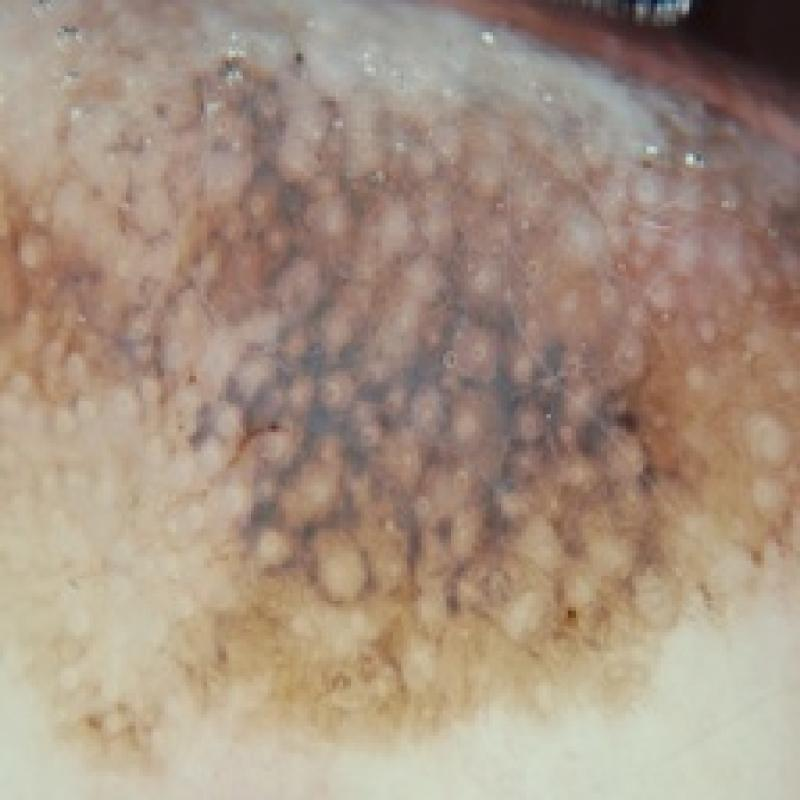malignant: (15, 28, 800, 734)
